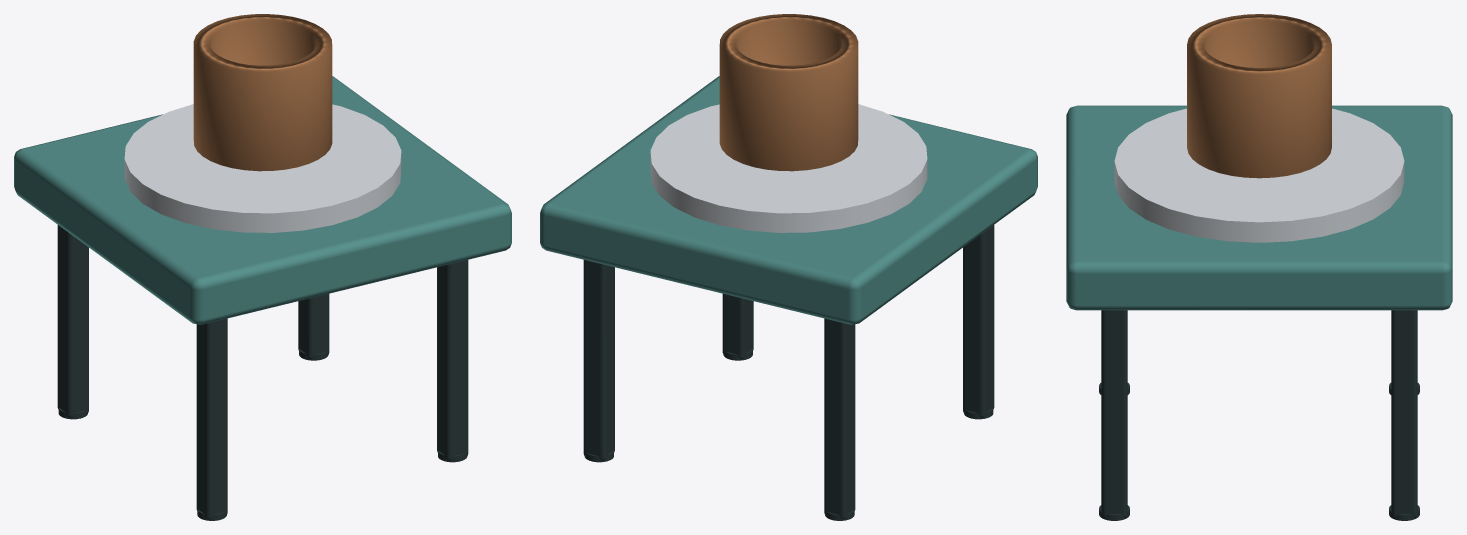
Rendered from wp-tour-de-potier.glb.
3 renders of one model, left to right at view 1: azimuth 30°, elevation 25°; view 2: azimuth 150°, elevation 25°; view 3: azimuth 270°, elevation 25°, orthographic. The views are drawn at different scales.
Parts seen in each view (by area): view 1: wp-tour-de-potier; view 2: wp-tour-de-potier; view 3: wp-tour-de-potier.
Boxes of the visible parts, <box> form: wp-tour-de-potier: <box>14,14,511,520</box>; wp-tour-de-potier: <box>540,14,1037,520</box>; wp-tour-de-potier: <box>1066,14,1452,520</box>.
Bounding box in the file's own units: 0.6 × 0.7 × 0.6.
